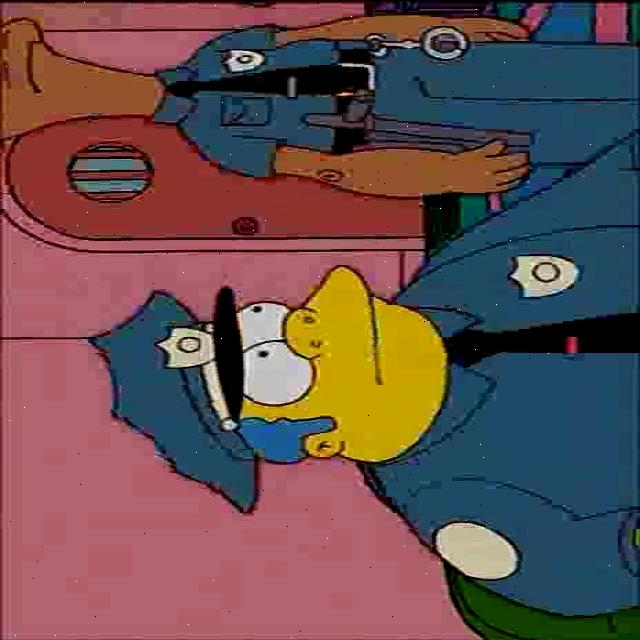Chief Wiggam: (87, 262, 451, 516)
